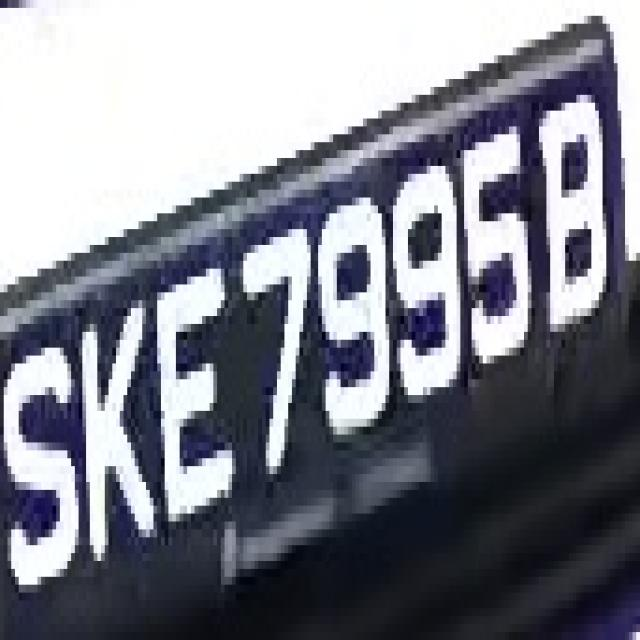5: (457, 111, 535, 403)
7: (228, 205, 318, 506)
9: (310, 166, 396, 442), (378, 158, 464, 411)
B: (531, 71, 614, 356)
E: (146, 237, 232, 545)
K: (75, 276, 157, 569)
S: (11, 316, 79, 624)
